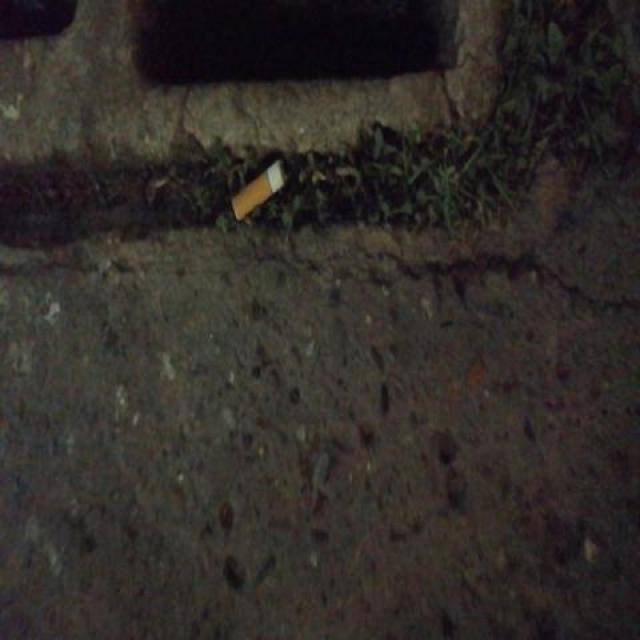non-organic waste: (226, 155, 290, 229)
